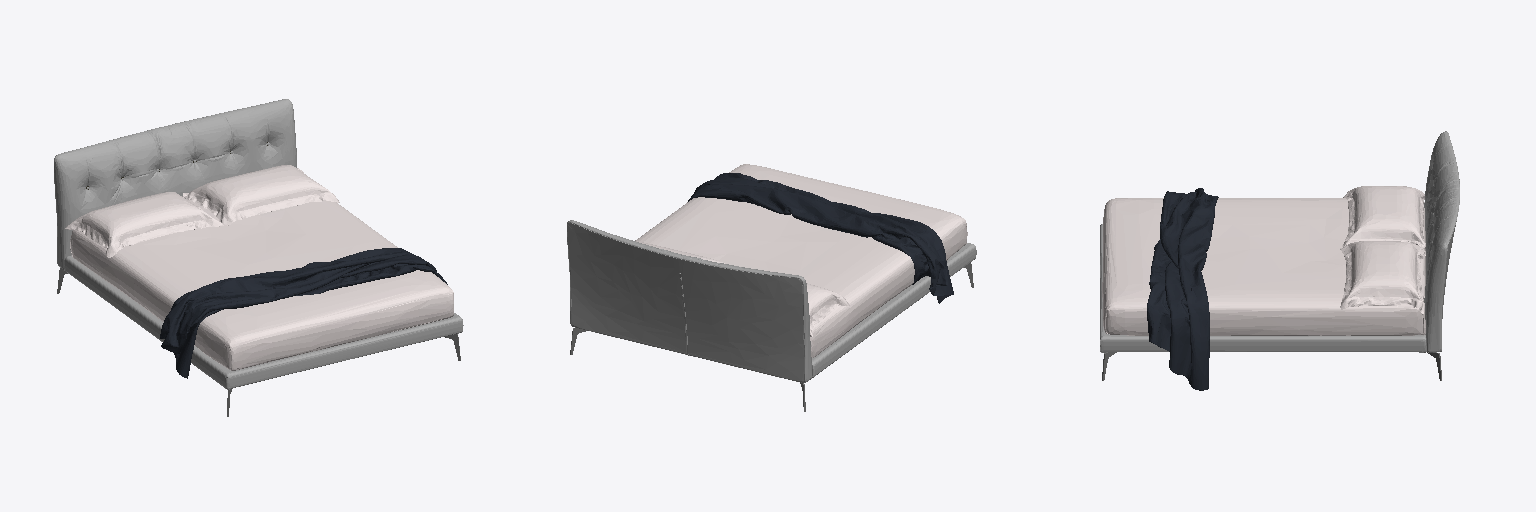
Rendered from bed.obj.
3 views of the same model, side by side, from view 1: azimuth 30°, elevation 25°; view 2: azimuth 150°, elevation 25°; view 3: azimuth 270°, elevation 25° (orthographic).
Parts seen in each view (by area): view 1: default; view 2: default; view 3: default.
Boxes of the visible parts, box(x1,y1,x2,y2) form: default: box(54, 99, 463, 416); default: box(567, 164, 976, 411); default: box(1100, 131, 1459, 390).
Size of the model in its own units: 0.0194 by 0.0092 by 0.022.